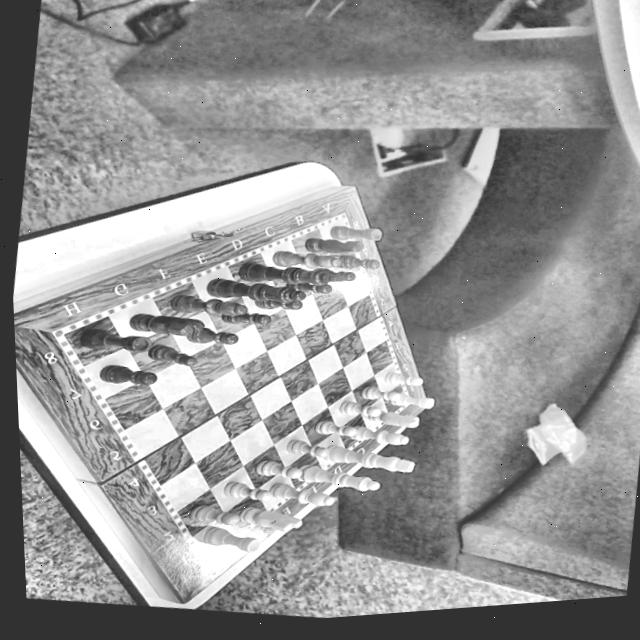chessboard: (68, 218, 408, 557)
